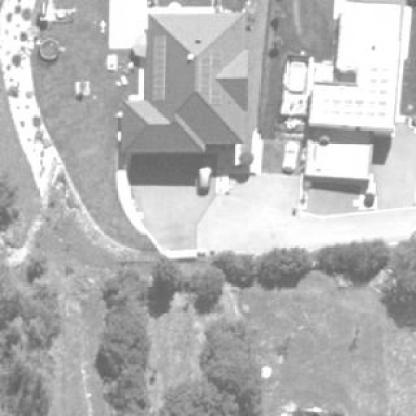solar-pv-panel: (319, 67, 390, 118), (201, 50, 222, 104), (153, 36, 165, 100)
